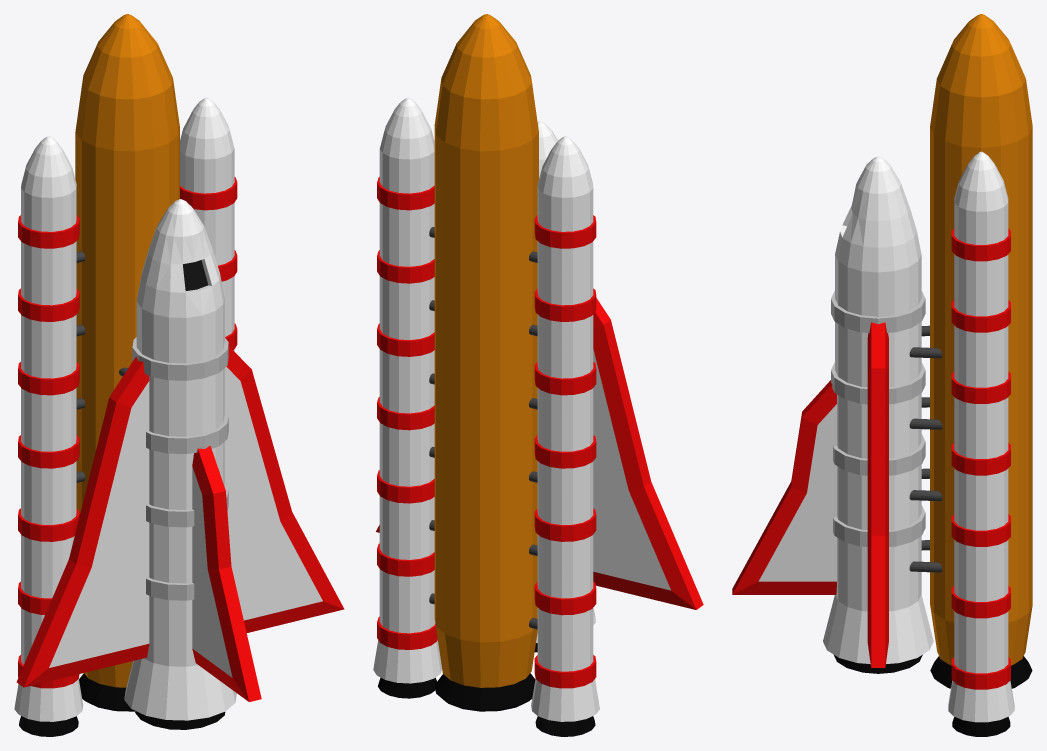
The model's file is Rocket.glb.
The picture shows the model from 3 angles, left to right: view 1: azimuth 30°, elevation 25°; view 2: azimuth 150°, elevation 25°; view 3: azimuth 270°, elevation 25°; orthographic projection. The views are drawn at different scales.
Parts seen in each view (by area): view 1: Cylinder, Cylinder.004, Cylinder.015, Cylinder.005; view 2: Cylinder.004, Cylinder.015, Cylinder.005, Cylinder; view 3: Cylinder, Cylinder.004, Cylinder.005.
Boxes of the visible parts, box(x1,y1,x2,y2) form: Cylinder: box(16, 199, 344, 729); Cylinder.004: box(75, 14, 179, 711); Cylinder.015: box(14, 136, 83, 736); Cylinder.005: box(180, 97, 237, 351); Cylinder.004: box(429, 14, 538, 711); Cylinder.015: box(531, 136, 599, 736); Cylinder.005: box(373, 97, 441, 698); Cylinder: box(376, 121, 703, 652); Cylinder: box(732, 156, 933, 673); Cylinder.004: box(909, 14, 1032, 688); Cylinder.005: box(948, 151, 1014, 736).
Size of the model in its own units: 4.58 by 9.43 by 3.81.
